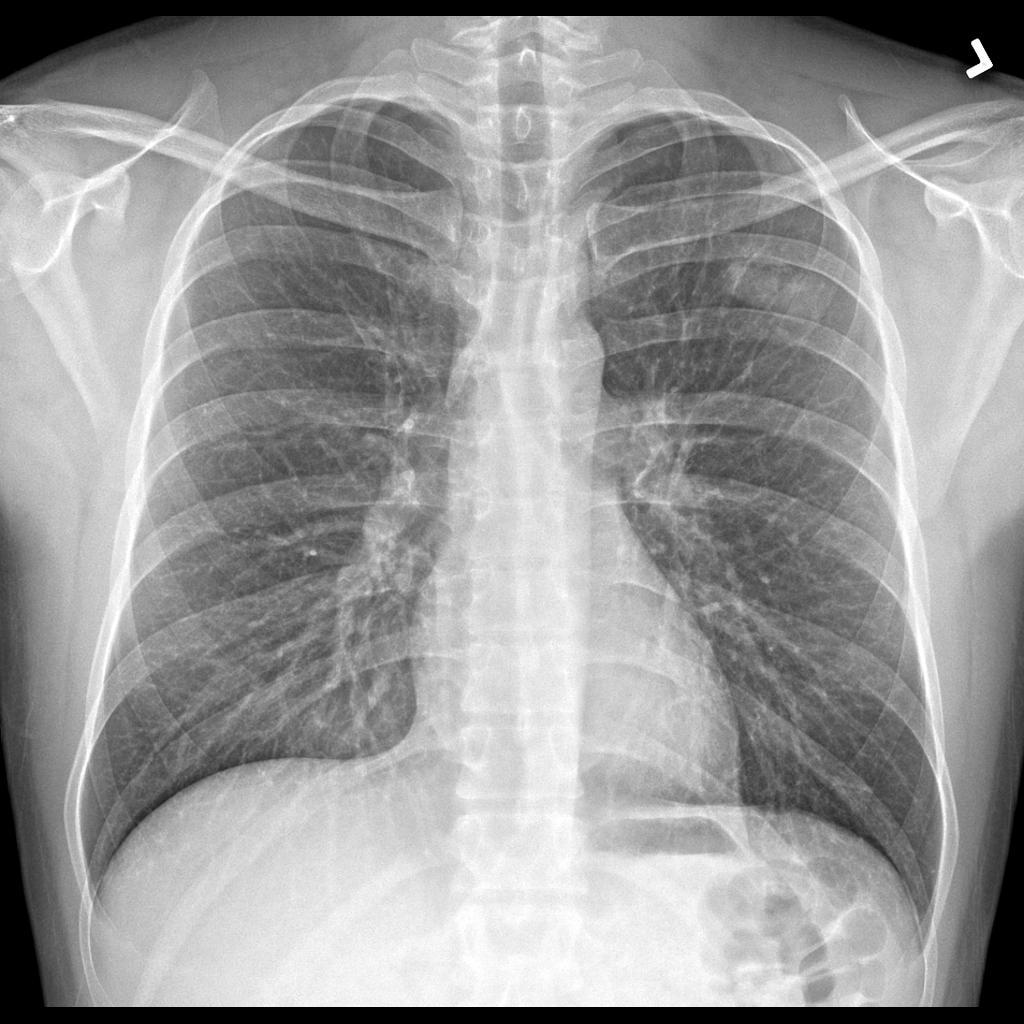Nodule: (724, 249, 832, 327)
